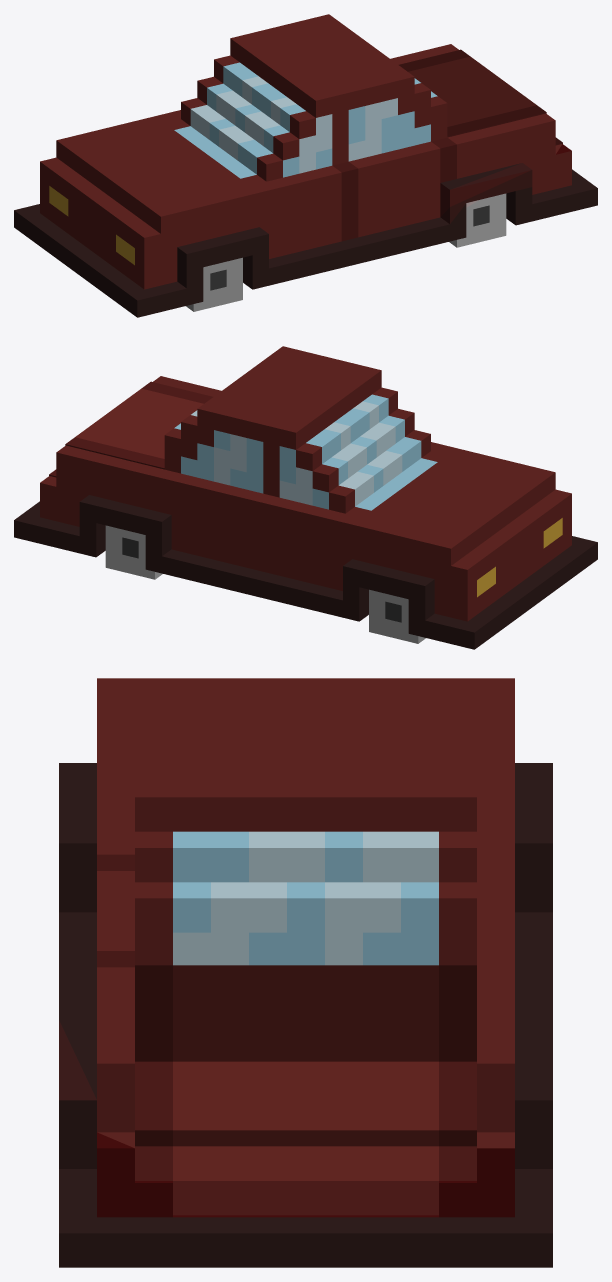
Rendered from car.fbx.
3 views of the same model, one above another, from view 1: azimuth 30°, elevation 25°; view 2: azimuth 150°, elevation 25°; view 3: azimuth 270°, elevation 25° (orthographic). The views are drawn at different scales.
Parts seen in each view (by area): view 1: car; view 2: car; view 3: car.
Boxes of the visible parts, <box> form: car: <box>14,14,597,317</box>; car: <box>14,346,597,649</box>; car: <box>59,678,552,1267</box>.
Size of the model in its own units: 585 by 209 by 272.
